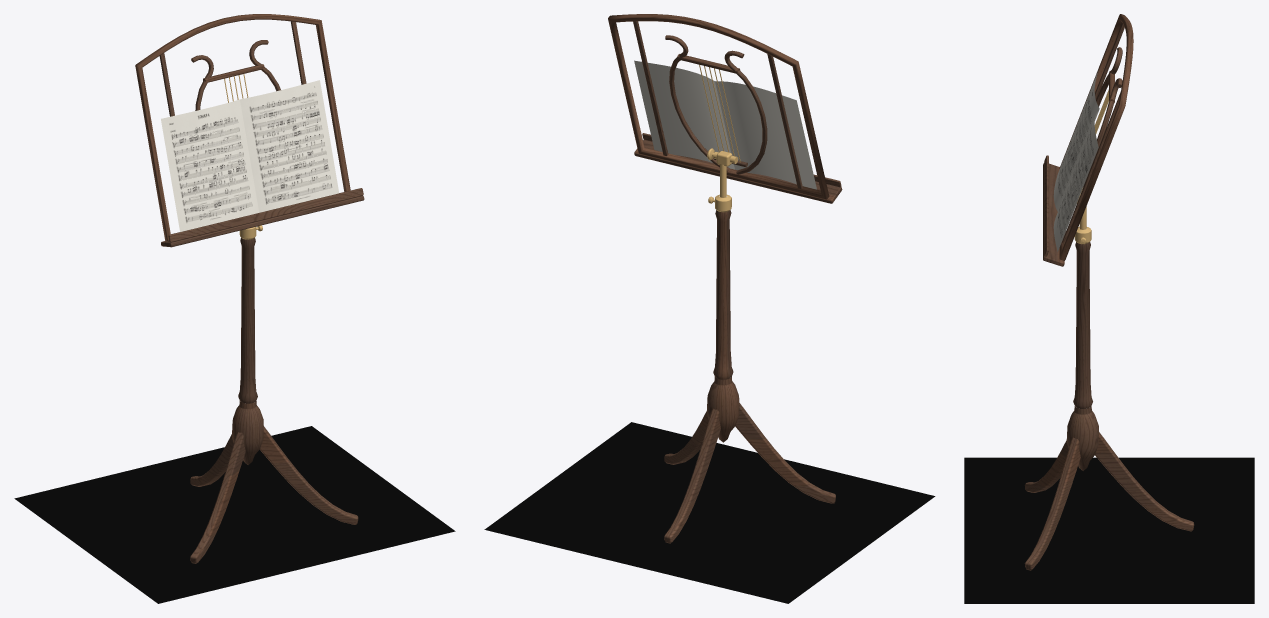
Rendered from music_stand.glb.
3 views of the same model, side by side, from view 1: azimuth 30°, elevation 25°; view 2: azimuth 150°, elevation 25°; view 3: azimuth 270°, elevation 25° (orthographic). The views are drawn at different scales.
Parts seen in each view (by area): view 1: music_stand_Shadow, music_stand_LOD0; view 2: music_stand_Shadow, music_stand_LOD0; view 3: music_stand_Shadow, music_stand_LOD0.
Part boxes in pixels (left/top/right/bottom): music_stand_Shadow: left=14, top=426, right=455, bottom=603; music_stand_LOD0: left=135, top=14, right=364, bottom=563; music_stand_Shadow: left=484, top=422, right=935, bottom=603; music_stand_LOD0: left=608, top=14, right=842, bottom=543; music_stand_Shadow: left=964, top=457, right=1254, bottom=603; music_stand_LOD0: left=1024, top=14, right=1194, bottom=570.
Size of what is drawn, in the model's own units: 0.86 by 1.35 by 0.721.
4 materials, 3 textured.
